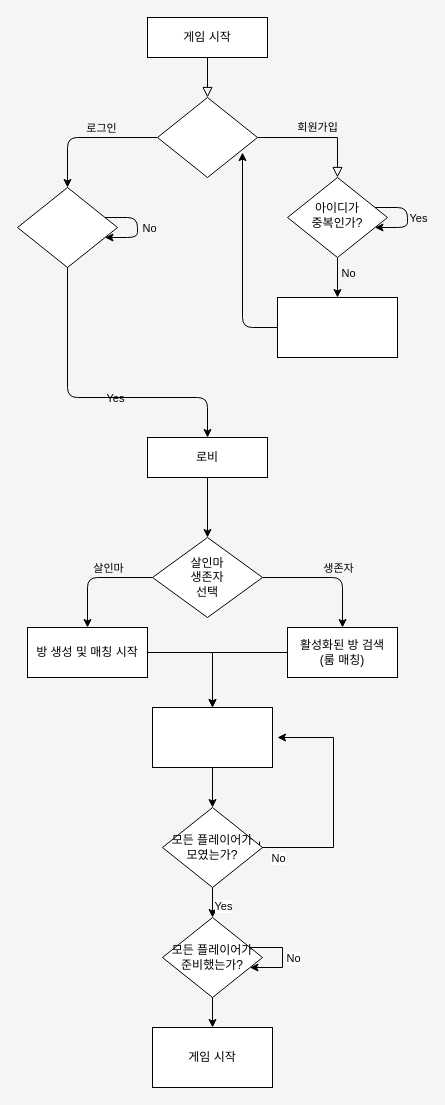
This 445x1105 diagram has some shape labels left out. Each missing label, with the box of its shape:
게임 룸 입장 기술, 장비 장착: (152, 706, 272, 768)
계정 생성 (DB등록): (276, 296, 398, 358)
올바른 ID/PW 인가?: (16, 186, 118, 268)
회원가입 / 로그인: (156, 96, 258, 178)
